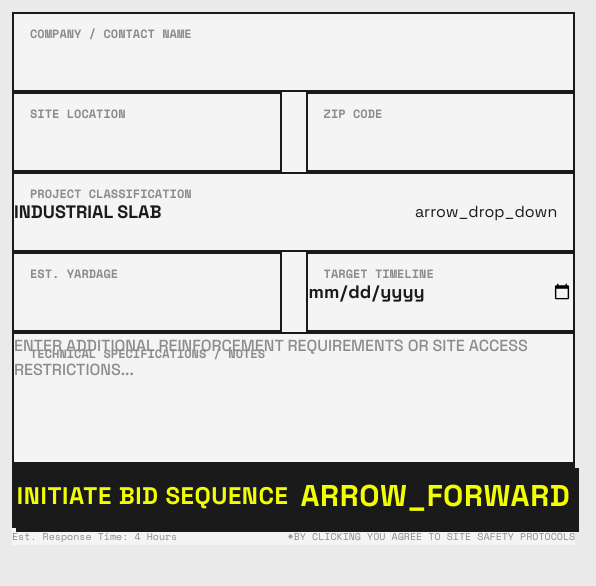
QuoteForm submission › shows inline phone fallback when submission fails
The width and height of the screenshot is (596, 586).
In the field labelled "Company / Contact Name": point(294, 52) [14,14,573,90], type "Acme Construction"
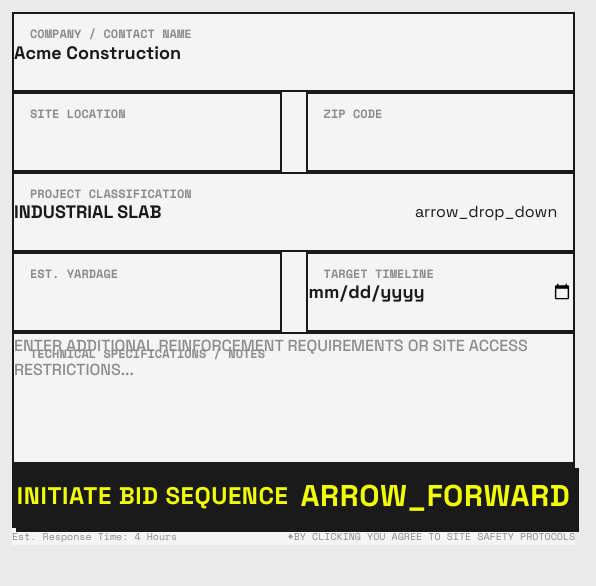
Select "INDUSTRIAL SLAB" in the dropdown labelled "Project Classification": point(294, 212) [14,174,573,250]
Submit the form from the button "INITIATE BID SEQUENCE arrow_forward", box [12,464,575,528]
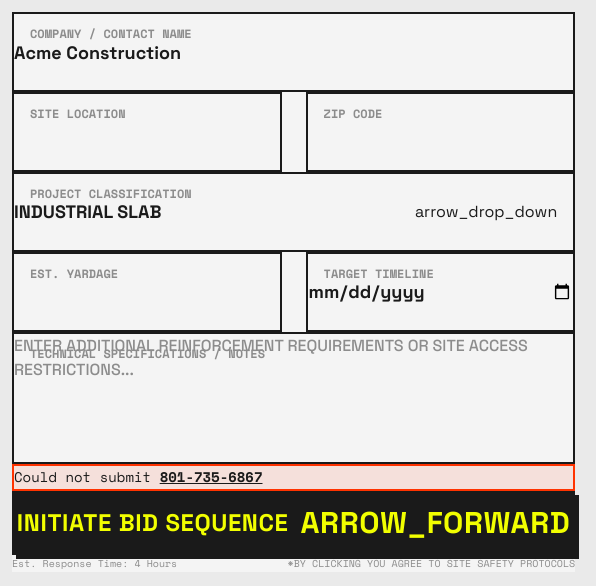
Expected: the message shows "Could not submit", [14,466,151,487]
